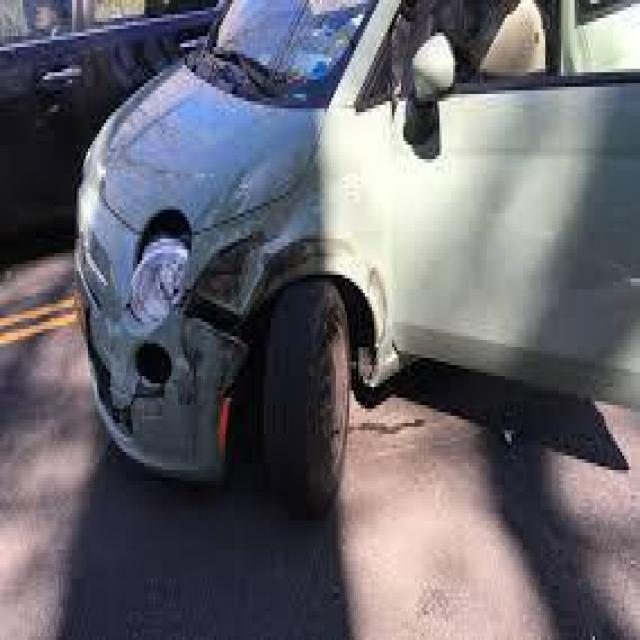damaged: (86, 213, 392, 452)
